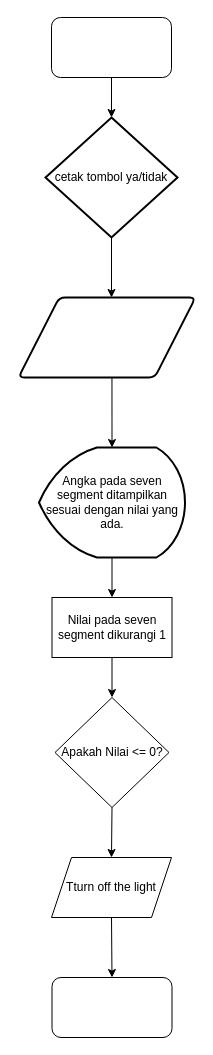
The diagram is 213 pixels wide and 1055 high, and some of its shapes have lost their labels. The shapes that lost their labels are listed below. From the top down, each one's box as (x1, y1, x2, y2) in pixels, then its label:
(50, 16, 172, 78): START
(17, 296, 196, 378): Set status menjadi sedang melakukan count down.
(51, 976, 172, 1038): end
